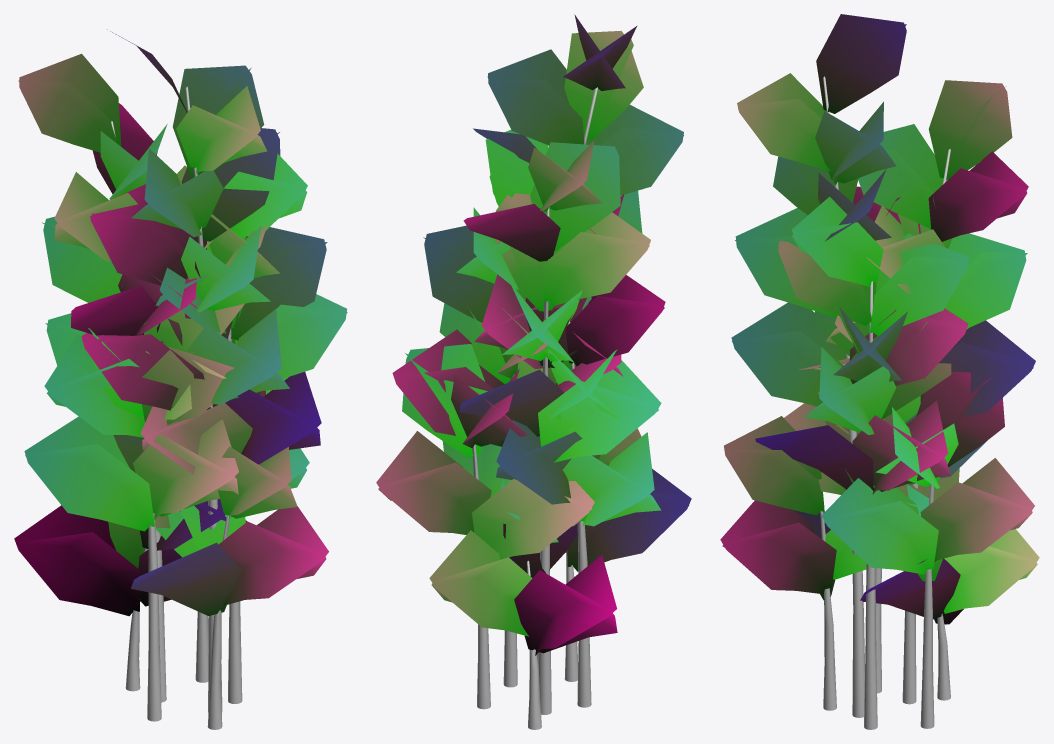
Rendered from Bamboo.fbx.
3 views of the same model, side by side, from view 1: azimuth 30°, elevation 25°; view 2: azimuth 150°, elevation 25°; view 3: azimuth 270°, elevation 25° (orthographic). The views are drawn at different scales.
Parts seen in each view (by area): view 1: Tree_1, Tree_0; view 2: Tree_1, Tree_0; view 3: Tree_1, Tree_0.
Part boxes in pixels (<box>): Tree_1: <box>14,29,347,616</box>; Tree_0: <box>111,86,242,729</box>; Tree_1: <box>376,14,691,655</box>; Tree_0: <box>472,87,597,729</box>; Tree_1: <box>720,14,1039,624</box>; Tree_0: <box>819,76,950,729</box>.
Bounding box in the file's own units: 43.59 × 108 × 46.71.
